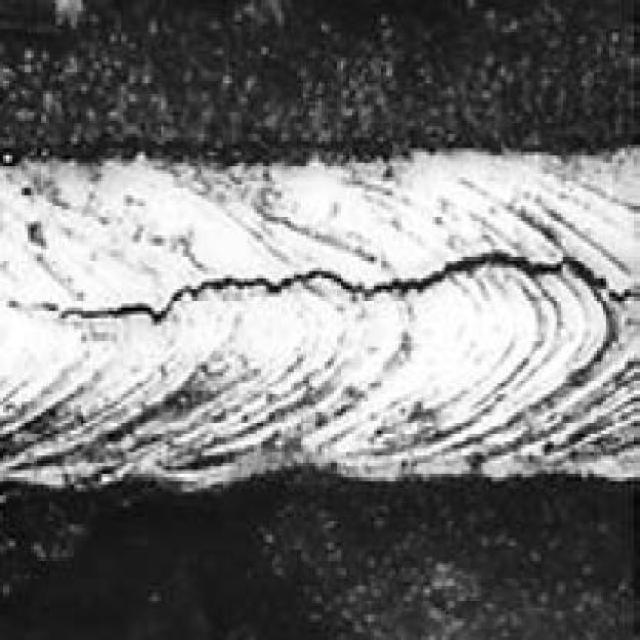Defect: (58, 235, 631, 347)
